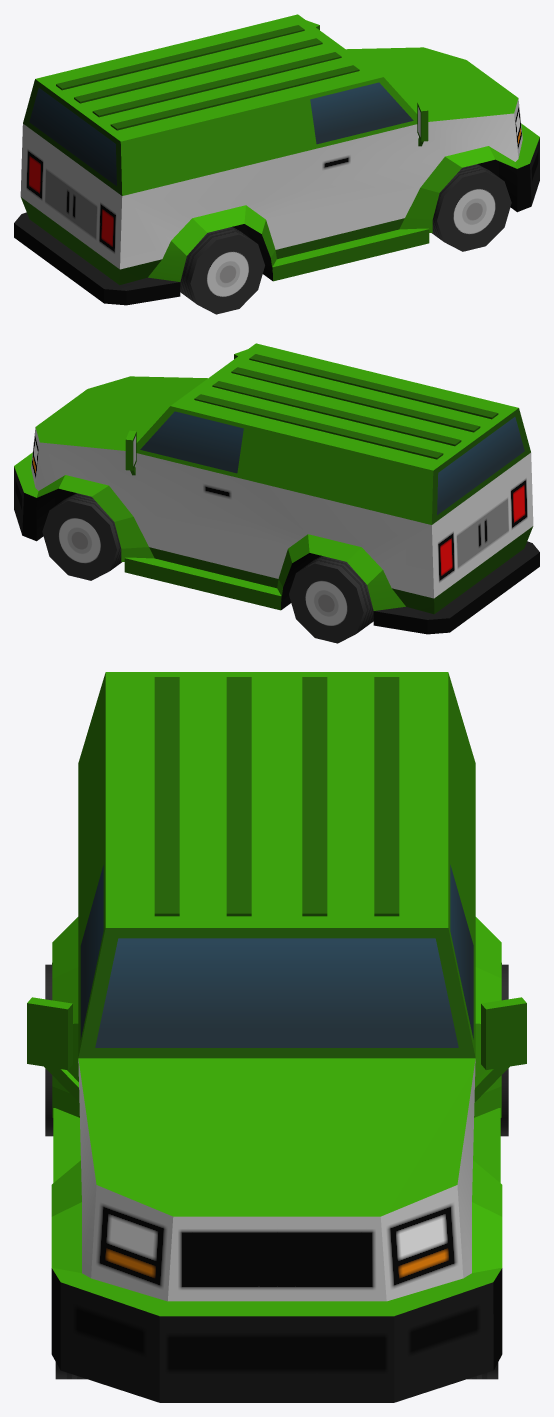
The model's file is Truck_031.glb.
3 renders of one model, top to bottom at view 1: azimuth 30°, elevation 25°; view 2: azimuth 150°, elevation 25°; view 3: azimuth 270°, elevation 25°, orthographic. The views are drawn at different scales.
Visible parts, largest first — view 1: Truck_031, wheel_3_Truck_031_Wheel_2R, wheel_1_Truck_031_Wheel_1R; view 2: Truck_031, wheel_2_Truck_031_Wheel_2L, wheel_0_Truck_031_Wheel_1L; view 3: Truck_031.
Boxes of the visible parts, x1,y1,x2,y2 form: Truck_031: [14, 14, 539, 305]; wheel_3_Truck_031_Wheel_2R: [180, 227, 264, 314]; wheel_1_Truck_031_Wheel_1R: [432, 164, 511, 251]; Truck_031: [14, 343, 539, 634]; wheel_2_Truck_031_Wheel_2L: [289, 556, 373, 643]; wheel_0_Truck_031_Wheel_1L: [42, 493, 121, 580]; Truck_031: [27, 672, 526, 1402].
Size of the model in its own units: 4.66 by 1.81 by 2.23.
Materials: 1 (1 with a texture image).
